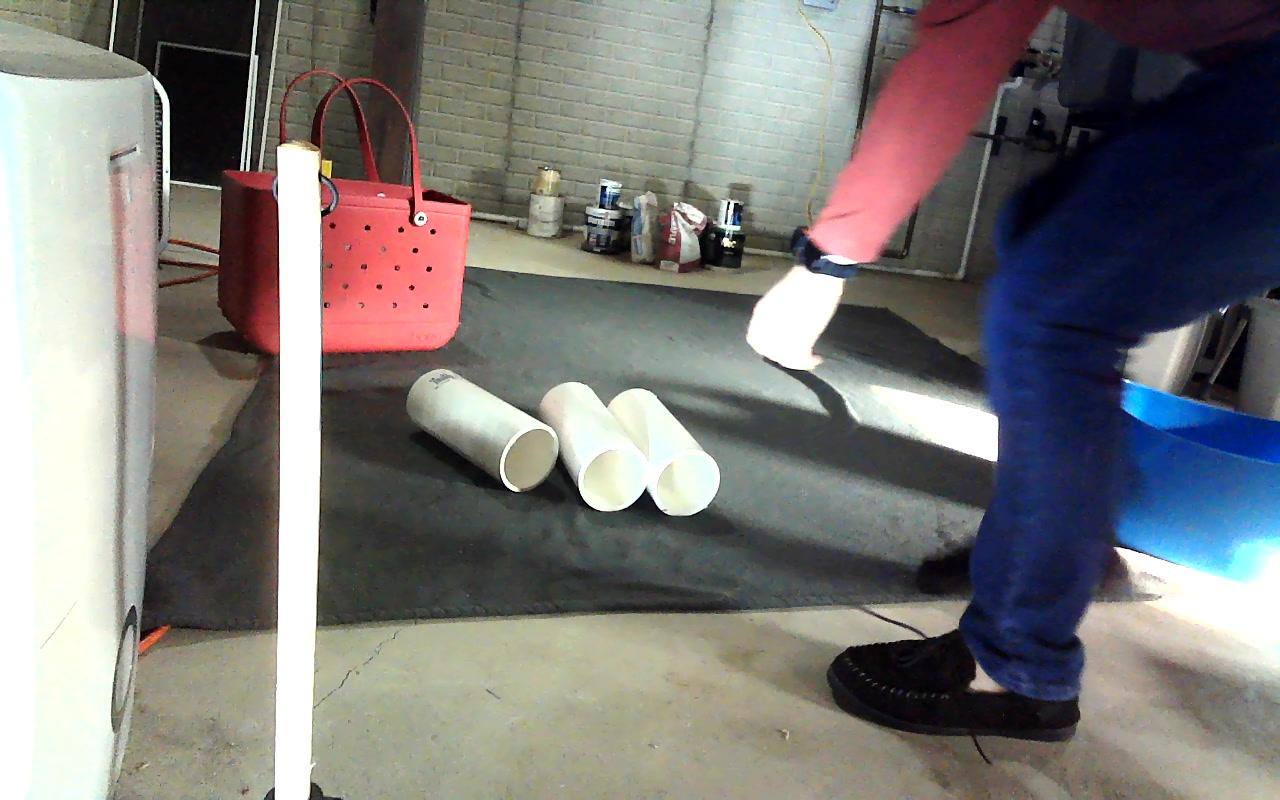coral: (406, 370, 557, 492), (542, 382, 648, 510), (612, 388, 718, 513)
